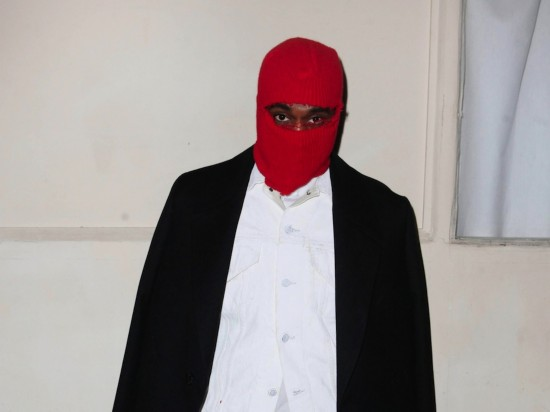face_mask: (262, 88, 335, 179)
